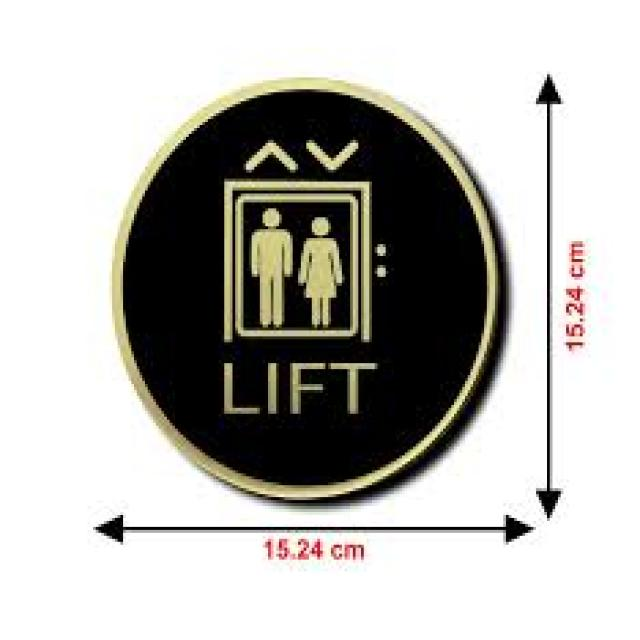lift_icon: (217, 137, 391, 348)
